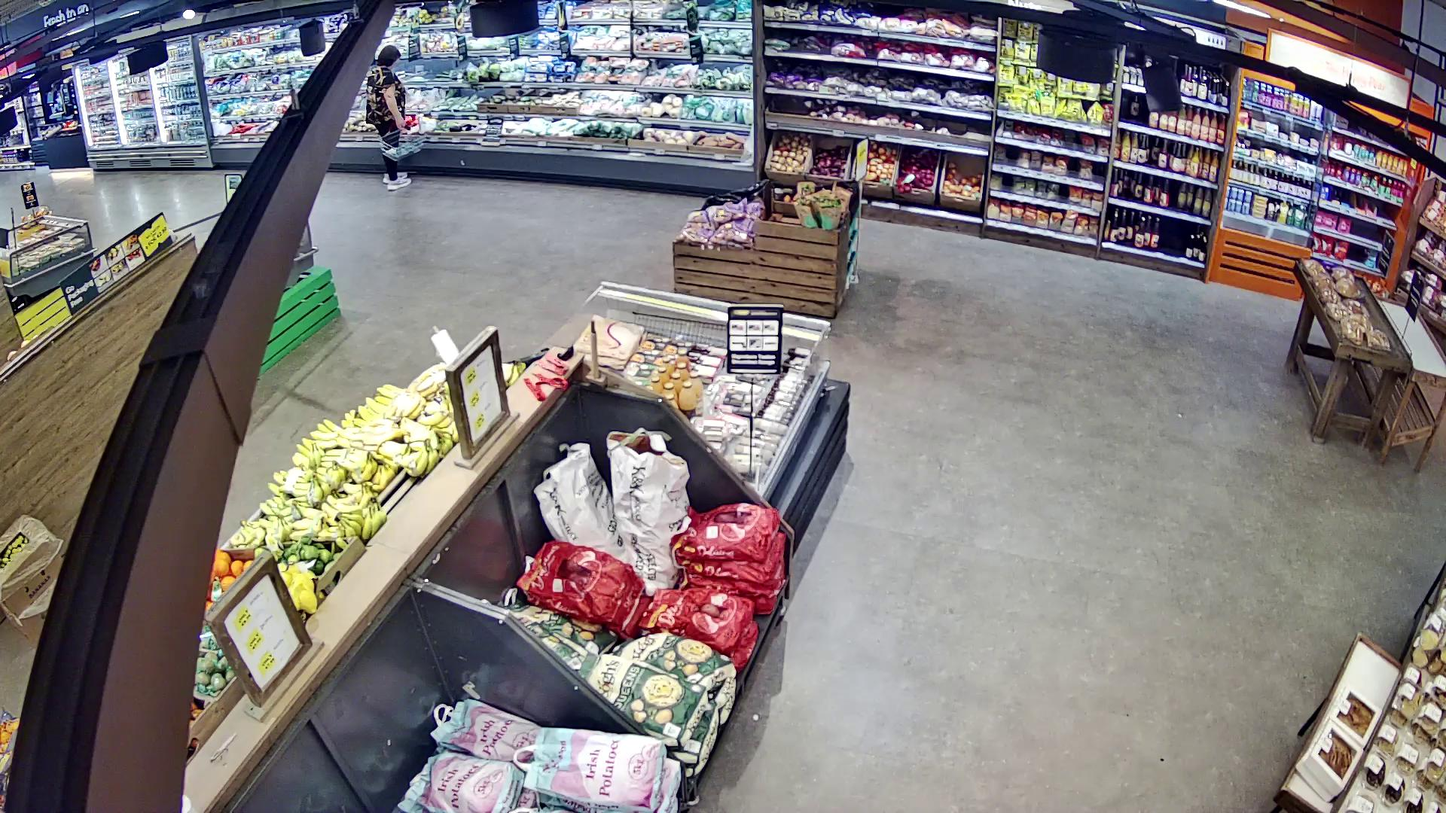empty-basket: (380, 124, 425, 161)
person: (366, 45, 412, 192)
person-with-empty-basket-trolly: (366, 46, 425, 193)
